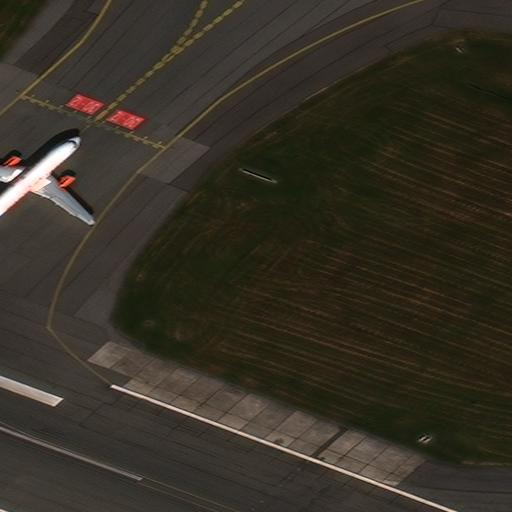Large Civil Transport: (0, 134, 96, 235)
